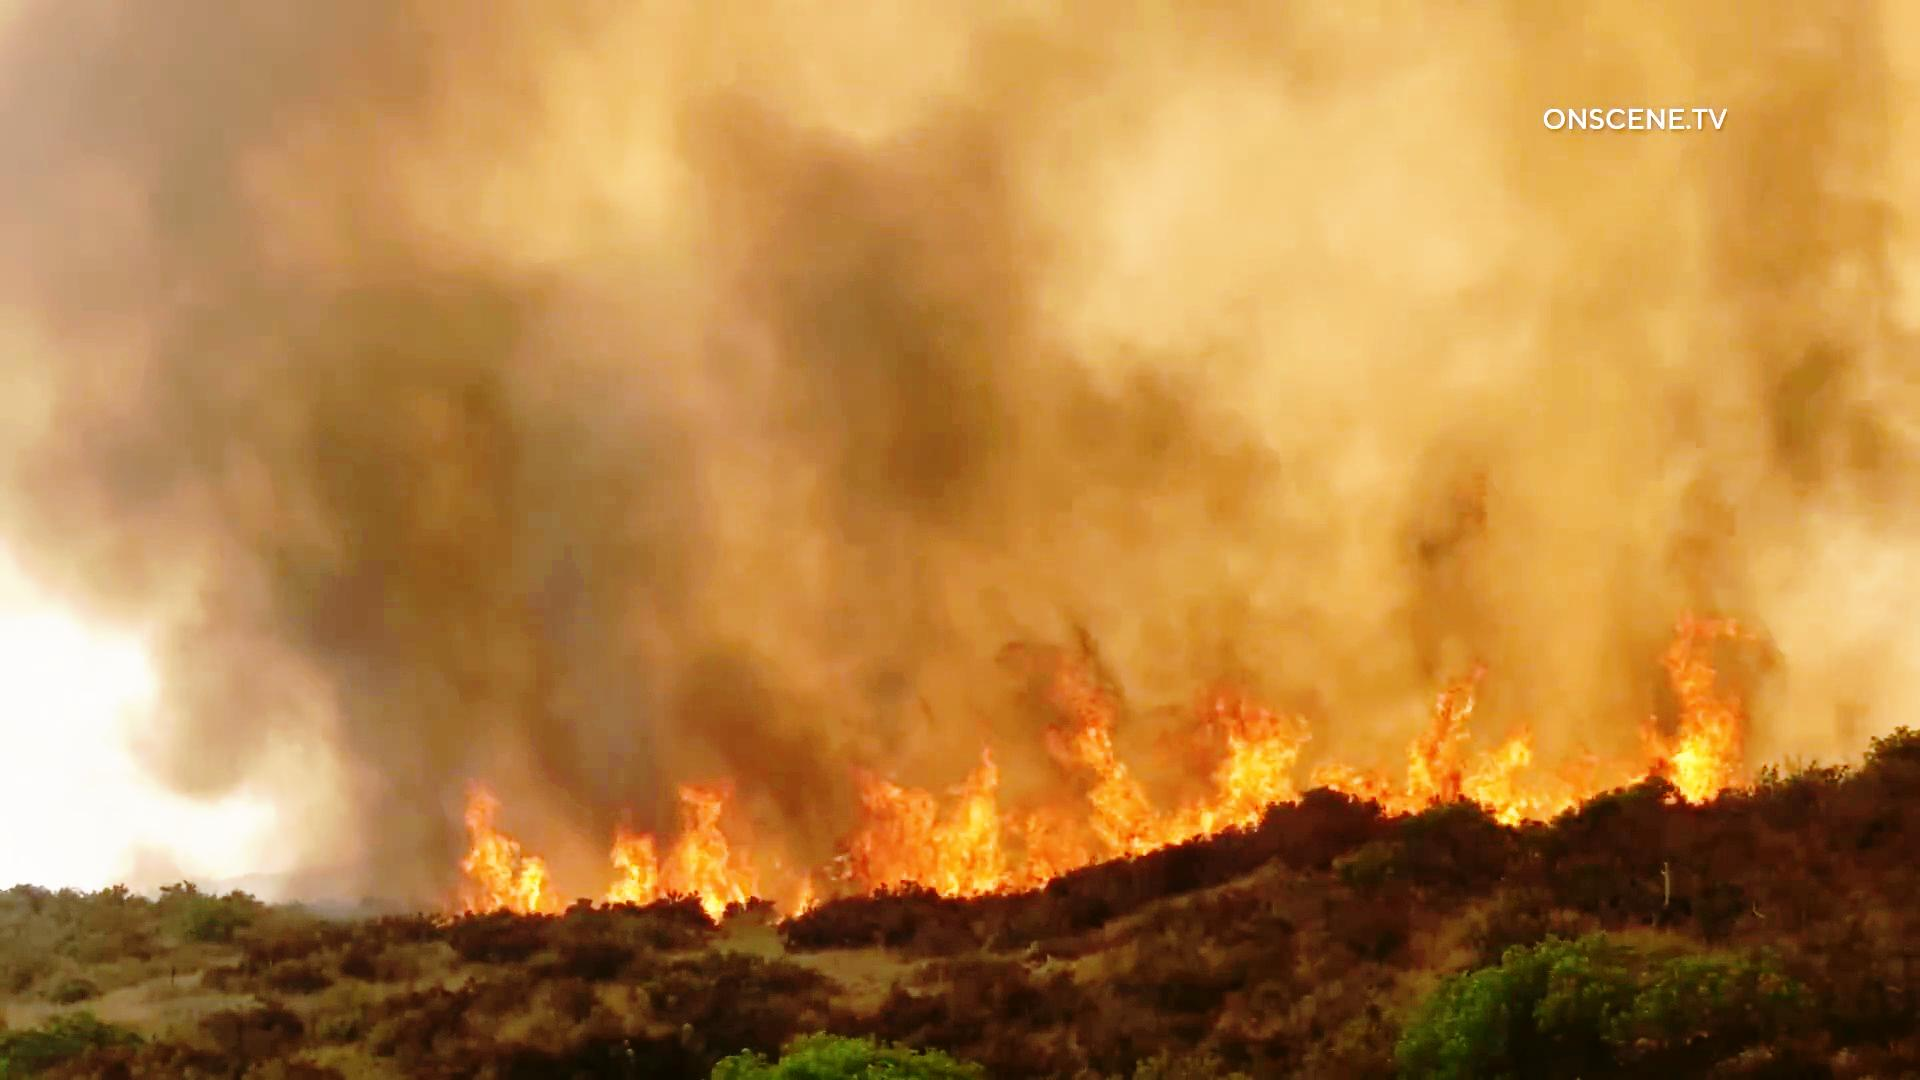fire: (1006, 663, 1149, 874), (588, 773, 773, 920), (1386, 633, 1519, 835), (843, 753, 1013, 897), (1626, 621, 1755, 800), (435, 773, 562, 914), (1185, 694, 1303, 844)
smoke: (823, 218, 1076, 687), (535, 393, 736, 762), (326, 401, 491, 770), (1640, 393, 1751, 625)
